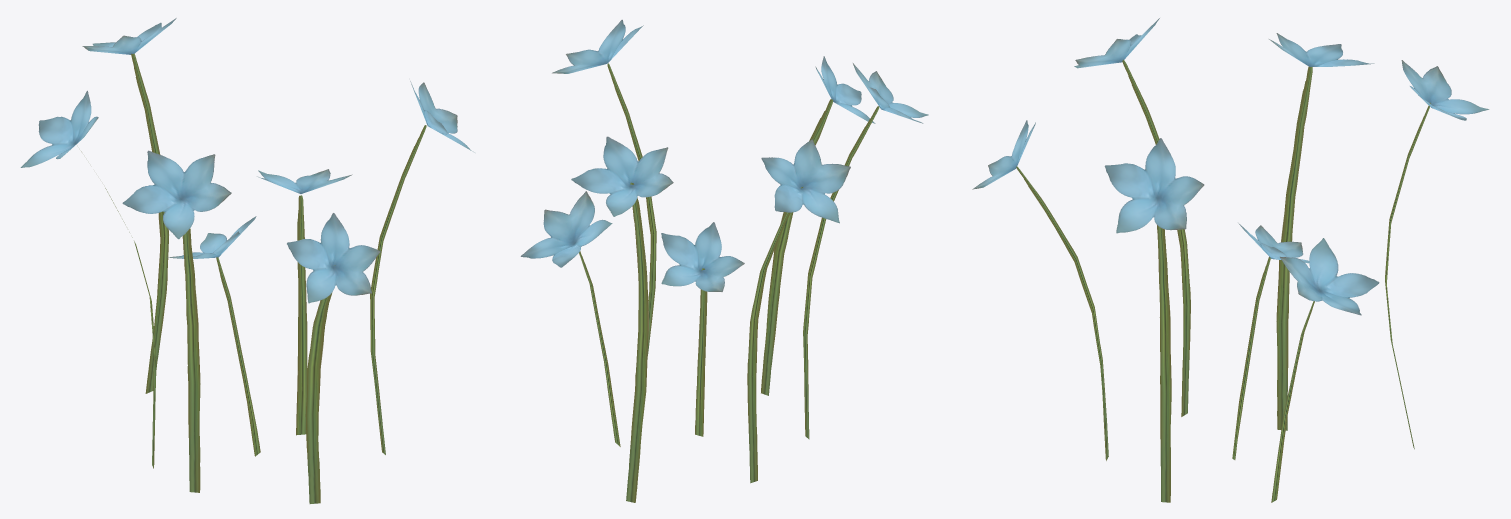
Rendered from SM_Ground_Blue_Flower_A.fbx.
The picture shows the model from 3 angles, left to right: view 1: azimuth 30°, elevation 25°; view 2: azimuth 150°, elevation 25°; view 3: azimuth 270°, elevation 25°; orthographic projection. The views are drawn at different scales.
Visible parts, largest first — view 1: SM_Ground_Blue_Flower_A_LOD0; view 2: SM_Ground_Blue_Flower_A_LOD0; view 3: SM_Ground_Blue_Flower_A_LOD0.
Boxes of the visible parts, x1,y1,x2,y2 form: SM_Ground_Blue_Flower_A_LOD0: (20,18,474,503); SM_Ground_Blue_Flower_A_LOD0: (520,19,928,502); SM_Ground_Blue_Flower_A_LOD0: (972,18,1489,502).
Size of the model in its own units: 36.28 by 42.78 by 35.3.
Materials: 1 (1 with a texture image).
